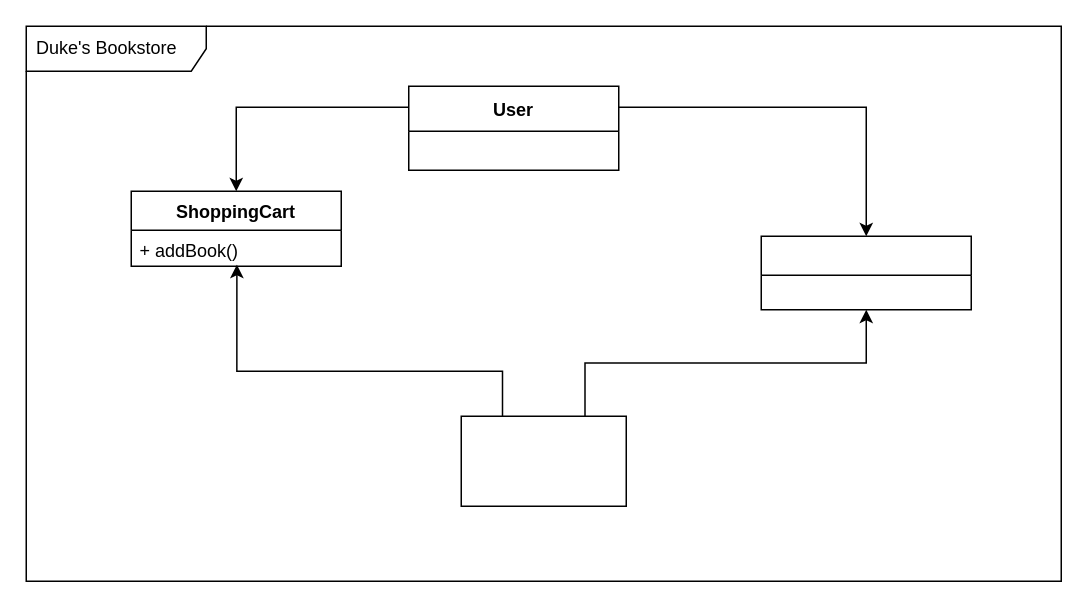
The diagram is 1088 pixels wide and 608 high, and some of its shapes have lost their labels. Here are the shapes that lost their labels. From the top down, the centre of each, then its label:
(x=865, y=272): BookCatalog
(x=543, y=460): Database
